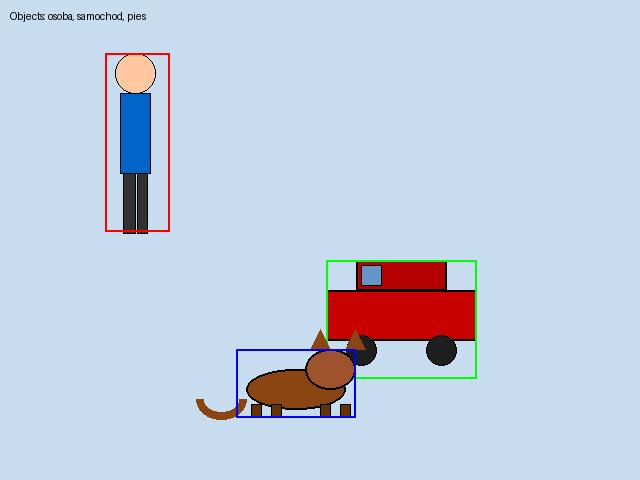osoba: (105, 53, 169, 231)
pies: (236, 349, 355, 417)
samochod: (326, 260, 476, 378)
